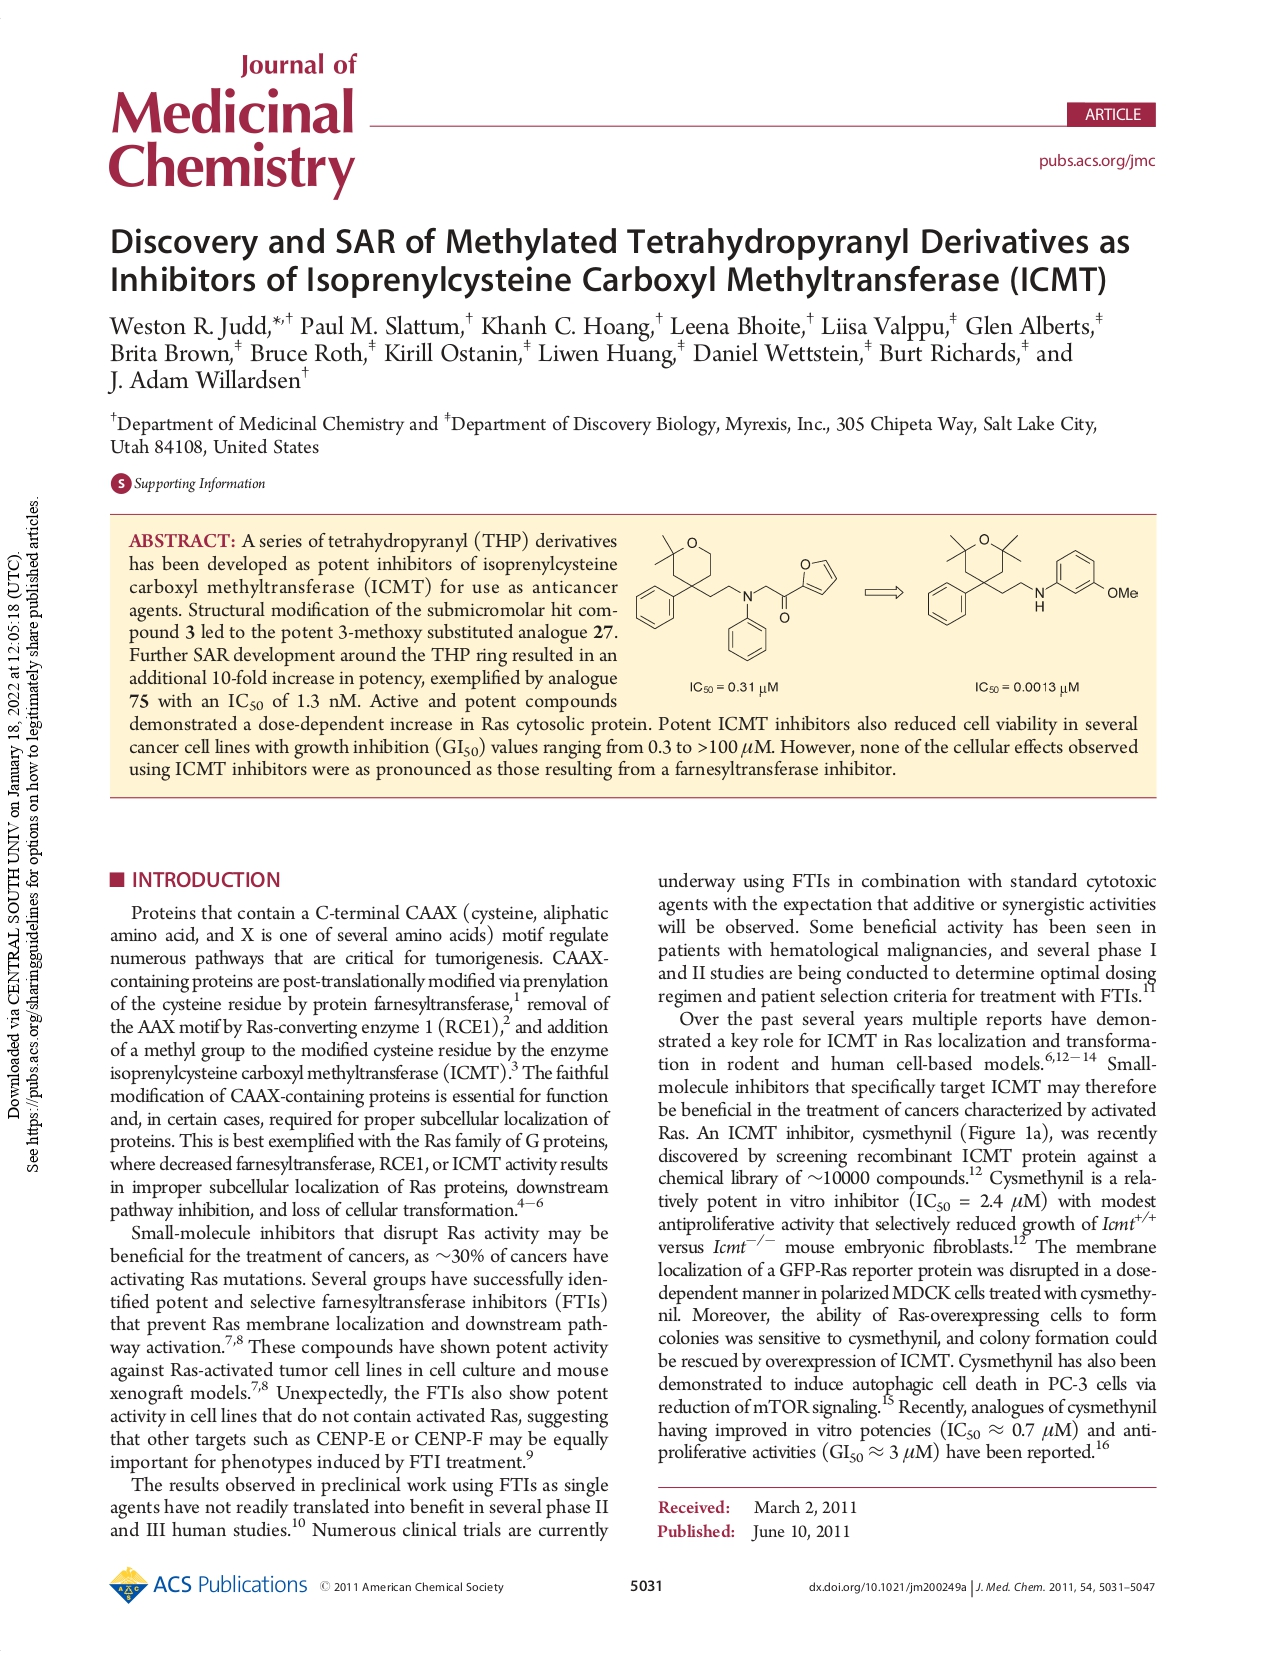exist_molecular: (632, 531, 840, 662), (924, 531, 1140, 629)
